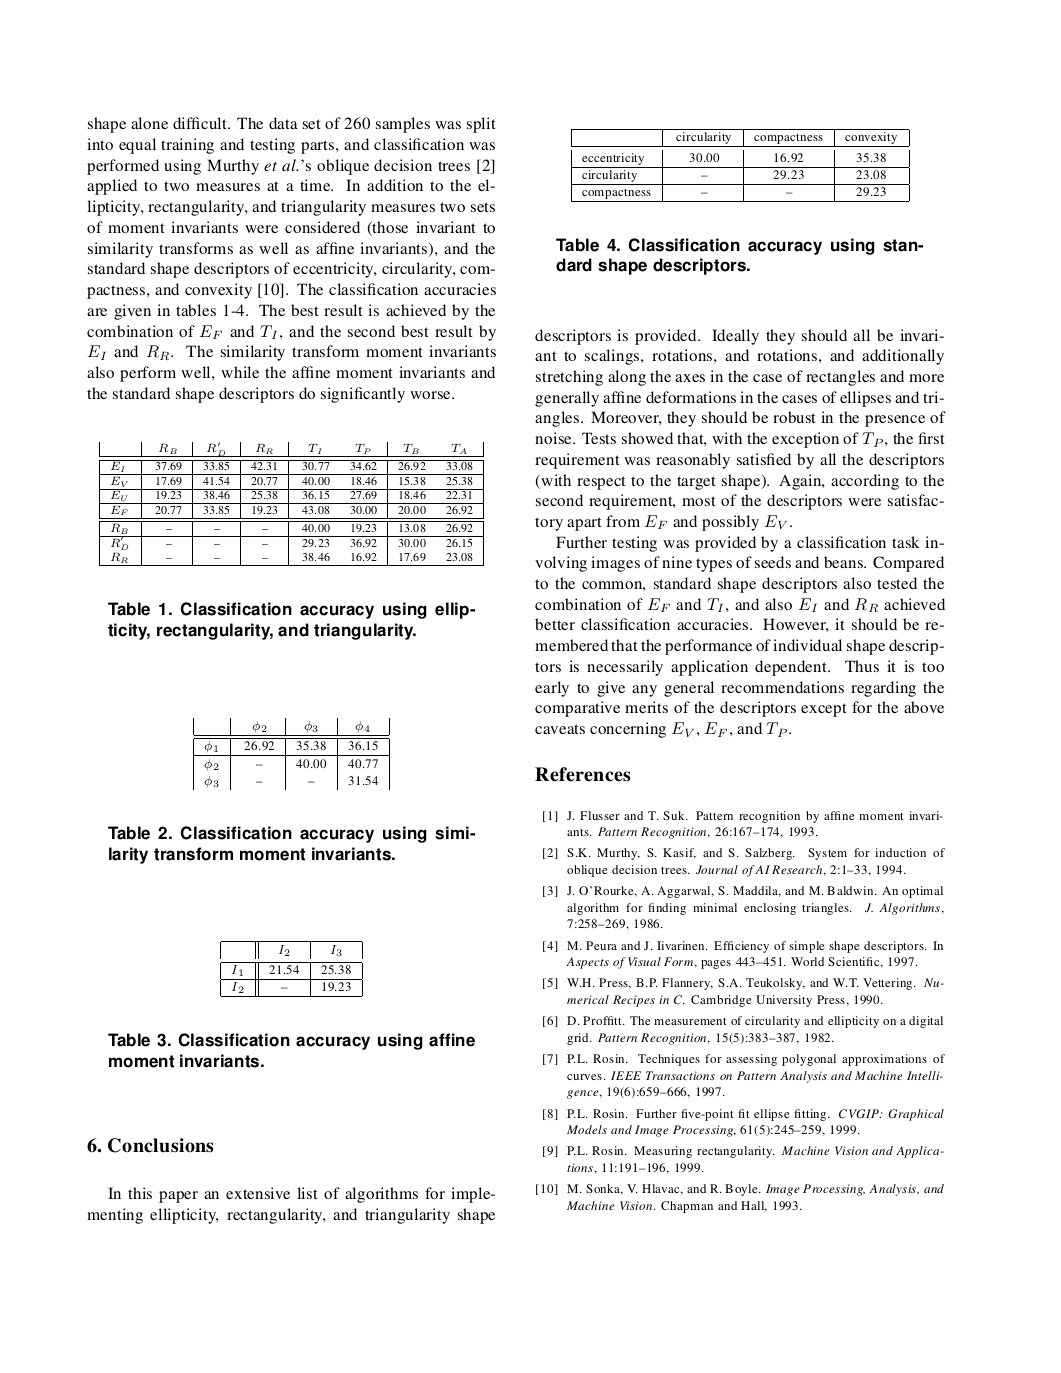Table: (99, 442, 483, 565), (571, 129, 909, 201), (193, 717, 389, 790), (220, 939, 362, 997)
